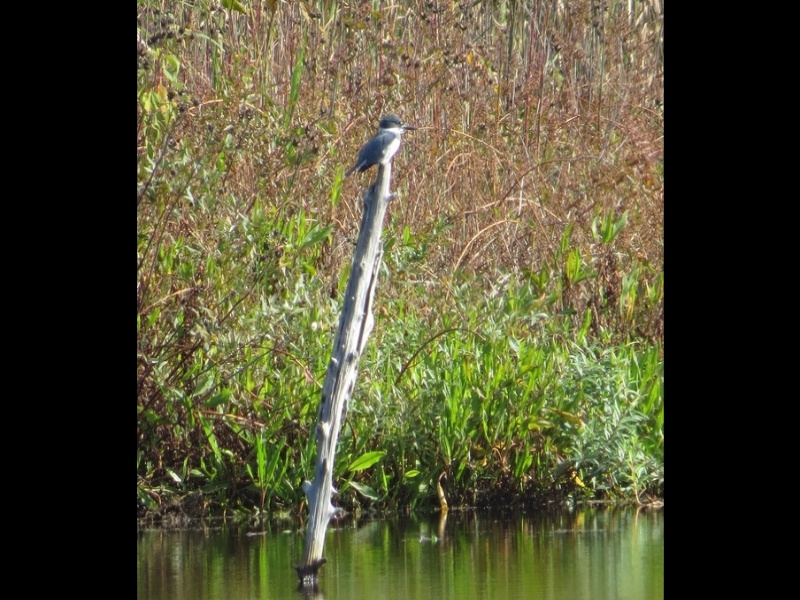kingfisher: (347, 112, 420, 177)
